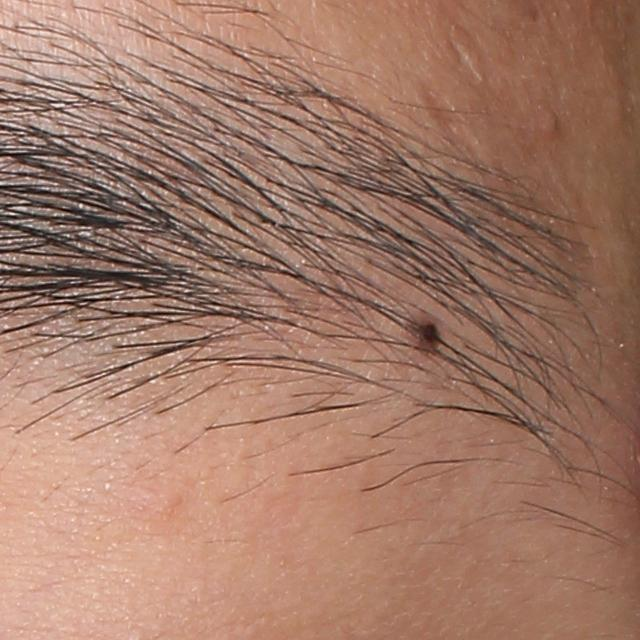nevus: (403, 308, 447, 357)
